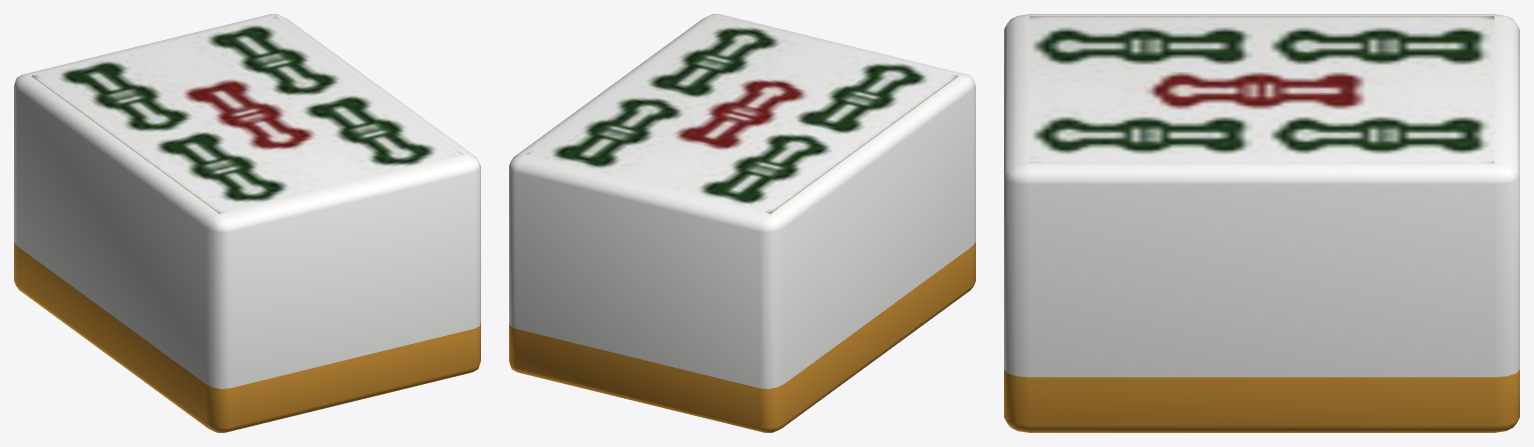
3 views of the same model, side by side, from view 1: azimuth 30°, elevation 25°; view 2: azimuth 150°, elevation 25°; view 3: azimuth 270°, elevation 25° (orthographic). The views are drawn at different scales.
Parts seen in each view (by area): view 1: hai; view 2: hai; view 3: hai.
Boxes of the visible parts, bbox=[...] form: hai: bbox=[14, 14, 480, 432]; hai: bbox=[509, 14, 975, 432]; hai: bbox=[1004, 14, 1519, 432].
Bounding box in the file's own units: 420 × 320 × 560.
3 materials, 1 textured.
